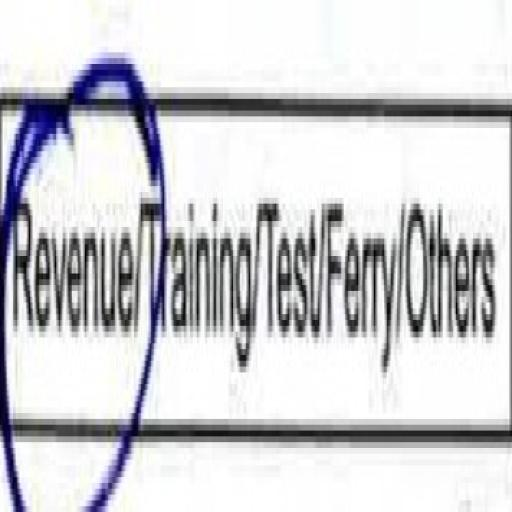check: (0, 25, 135, 512)
